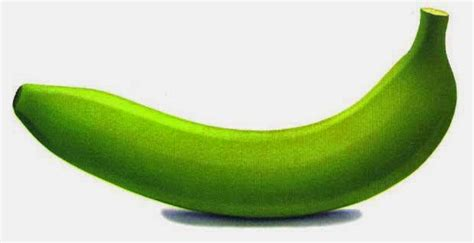banana: (10, 41, 462, 221)
